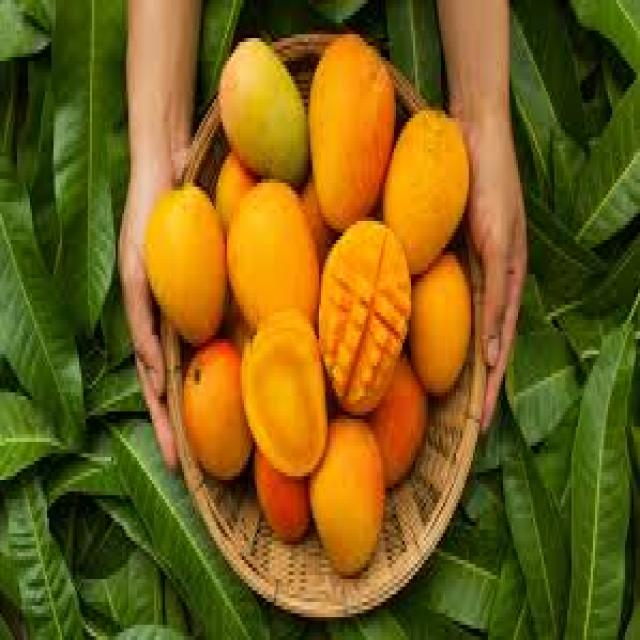mango: (240, 309, 330, 484)
